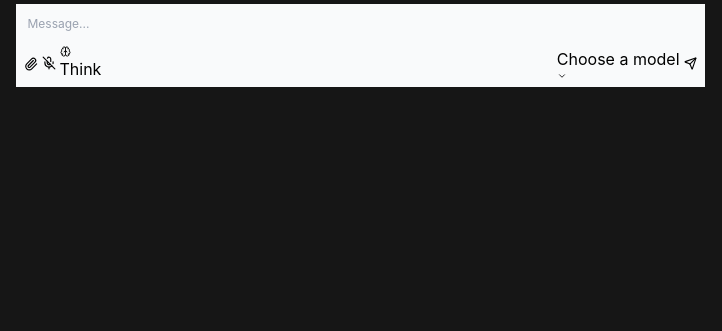
the model picker after a send without a model › closed without a pick: the dot on the button stays, the sentence comes back on opening
This screenshot has width=722, height=331.
In the text box: point(360, 24) [28,14,692,34], type "a message that must not get lost"
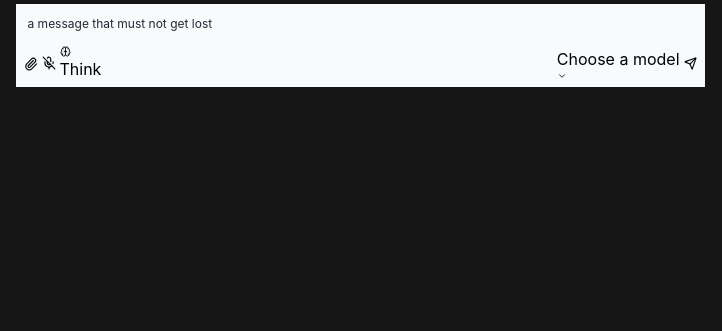
Click the button named "Send message": point(690, 63) [684,56,696,70]
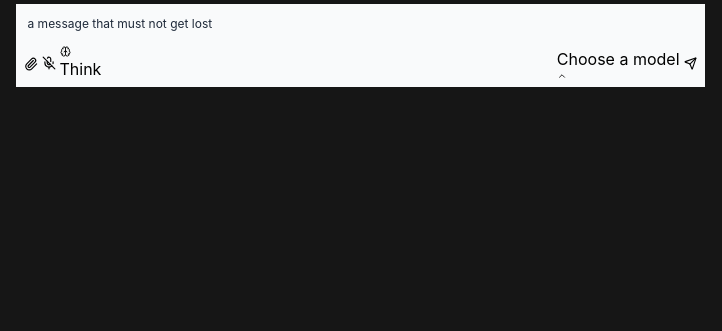
Click the button with aria-label "Select chat model": point(618, 64) [557,46,680,80]
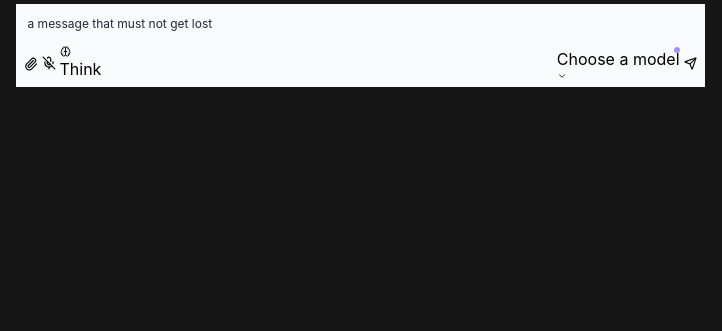
expect the element with test id "picker-send-needs-model-dot" is shown: met, box [674,46,680,52]
Click the button with aria-label "Select chat model": point(618, 64) [557,46,680,80]
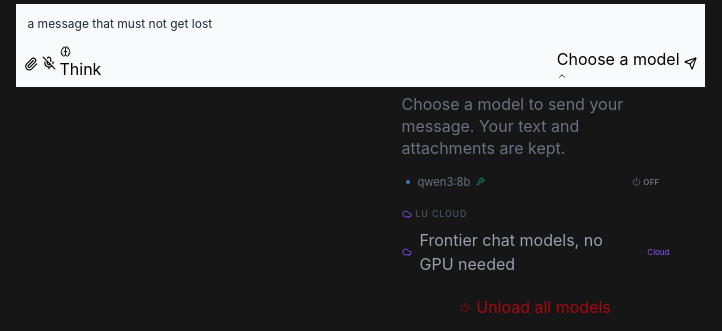
expect the text with test id "picker-send-needs-model" is shown: met, box [402,94,623,158]
